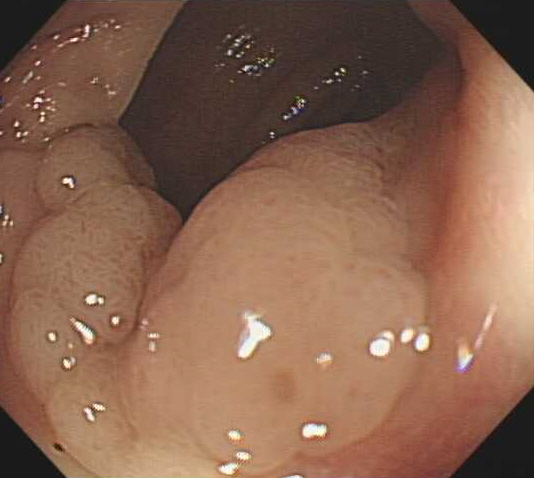adenoma: (12, 120, 431, 476)
